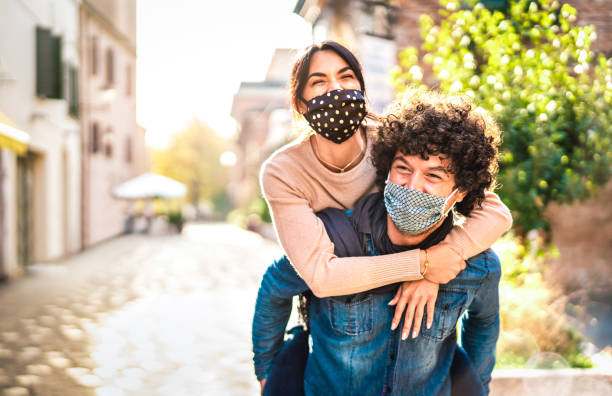with mask: (383, 118, 470, 232), (291, 38, 367, 147)
